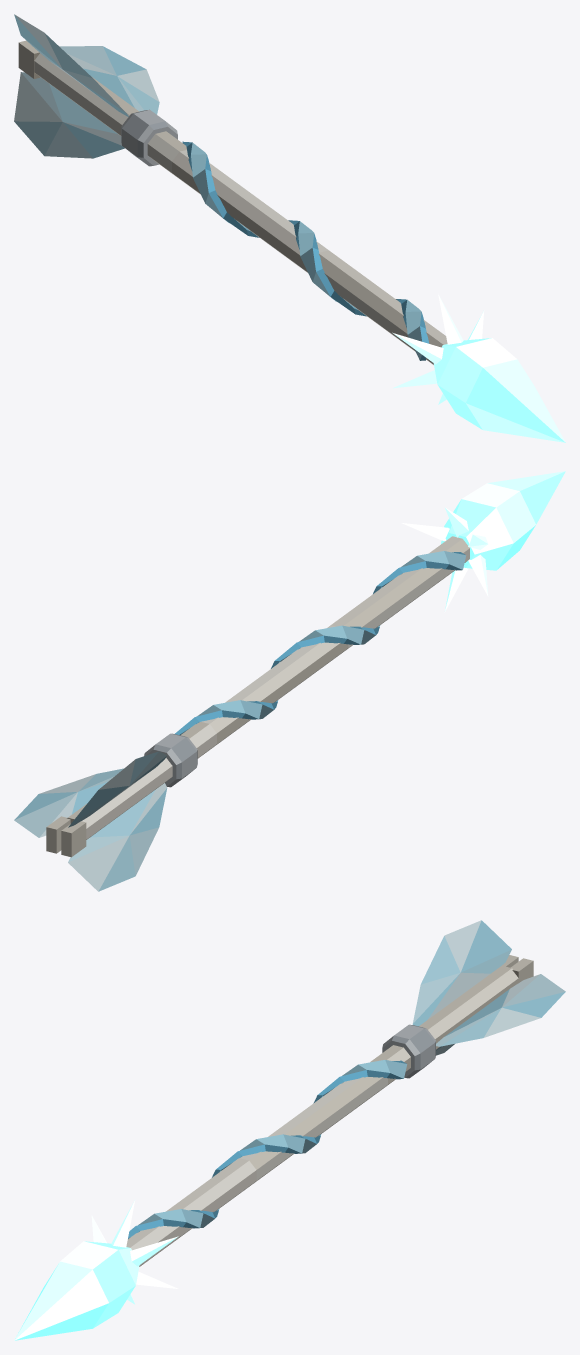
Rendered from arrow_frost.glb.
3 views of the same model, one above another, from view 1: azimuth 30°, elevation 25°; view 2: azimuth 150°, elevation 25°; view 3: azimuth 330°, elevation 25° (orthographic). The views are drawn at different scales.
Visible parts, largest first — view 1: SM_Arrow_frost; view 2: SM_Arrow_frost; view 3: SM_Arrow_frost.
Part boxes in pixels (box(x1,y1,x2,y2)): SM_Arrow_frost: box(14, 14, 565, 442); SM_Arrow_frost: box(14, 471, 565, 891); SM_Arrow_frost: box(14, 920, 565, 1340).
Bounding box in the file's own units: 0.0763 × 0.0788 × 0.618.
